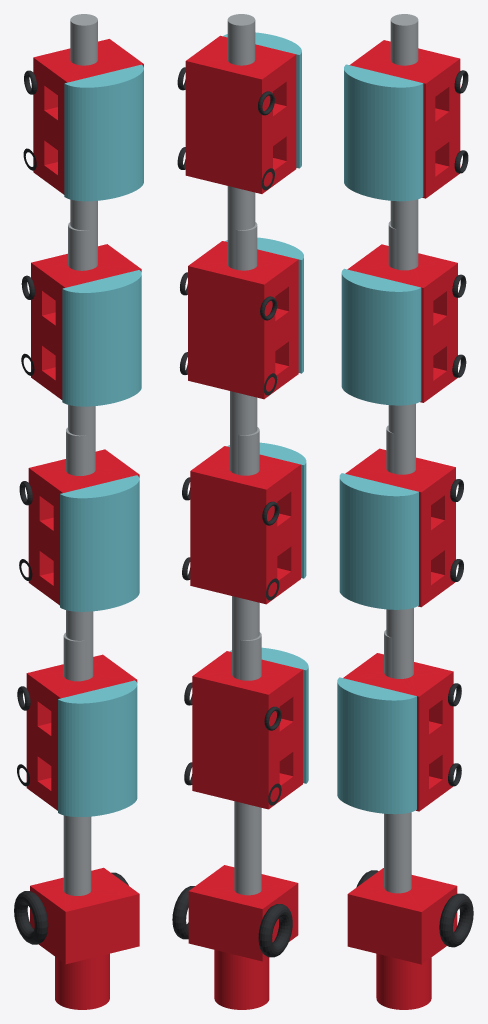
File: tinker.obj
3 views of the same model, side by side, from view 1: azimuth 30°, elevation 25°; view 2: azimuth 150°, elevation 25°; view 3: azimuth 330°, elevation 25° (orthographic).
Parts seen in each view (by area): view 1: group_0_7720667, group_0_15277357, group_0_10988977, group_0_2829873; view 2: group_0_15277357, group_0_10988977, group_0_7720667, group_0_2829873; view 3: group_0_7720667, group_0_15277357, group_0_10988977, group_0_2829873.
Boxes of the visible parts, x1,y1,x2,y2 form: group_0_7720667: [58, 64, 143, 816]; group_0_15277357: [26, 39, 143, 1009]; group_0_10988977: [63, 14, 97, 895]; group_0_2829873: [14, 70, 128, 944]; group_0_15277357: [185, 35, 302, 1009]; group_0_10988977: [227, 14, 261, 895]; group_0_7720667: [223, 32, 308, 783]; group_0_2829873: [172, 67, 292, 957]; group_0_7720667: [337, 64, 423, 814]; group_0_15277357: [343, 40, 460, 1009]; group_0_10988977: [384, 14, 418, 893]; group_0_2829873: [356, 70, 473, 947].
Size of the model in its own units: 41 by 392 by 40.98.
